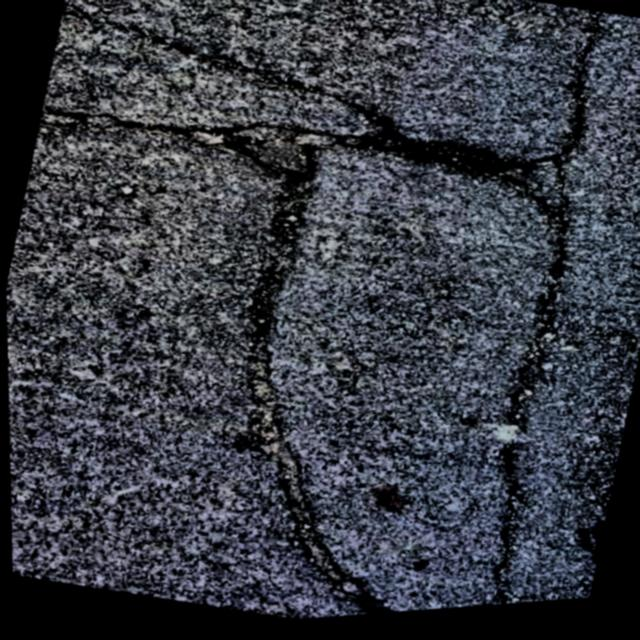cracks: (251, 135, 401, 575), (494, 10, 598, 604)
